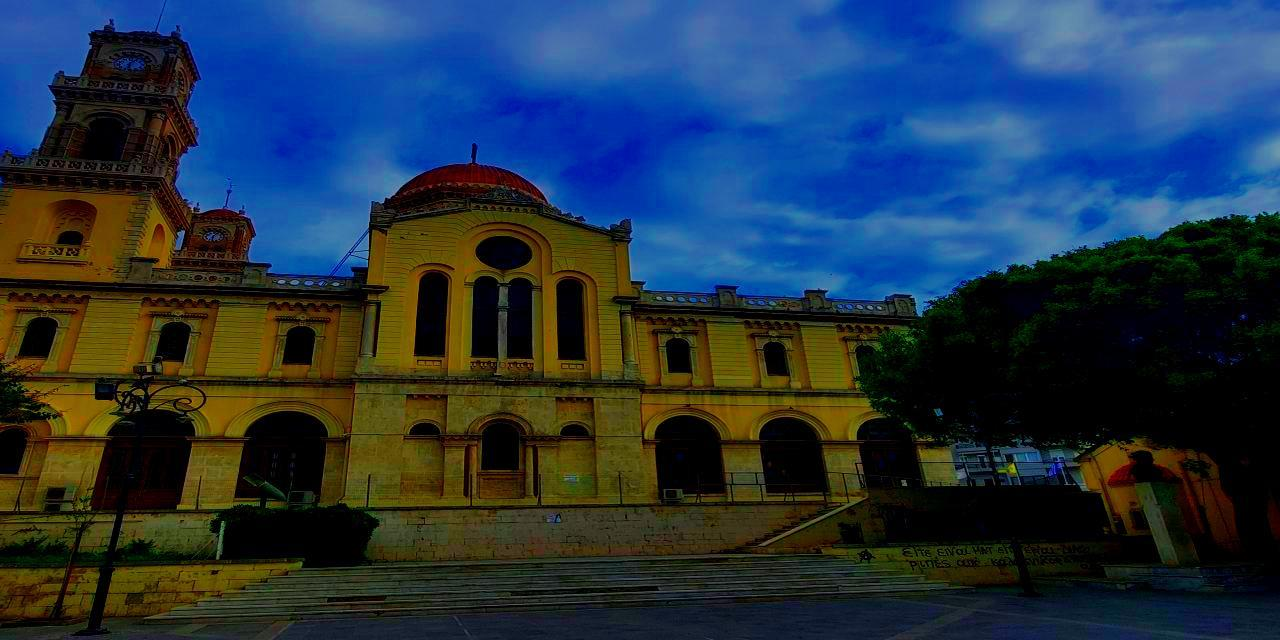Agios Minas: (1, 1, 961, 514)
